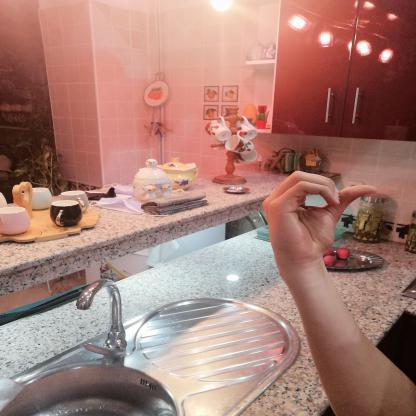WAW: (249, 160, 388, 267)
